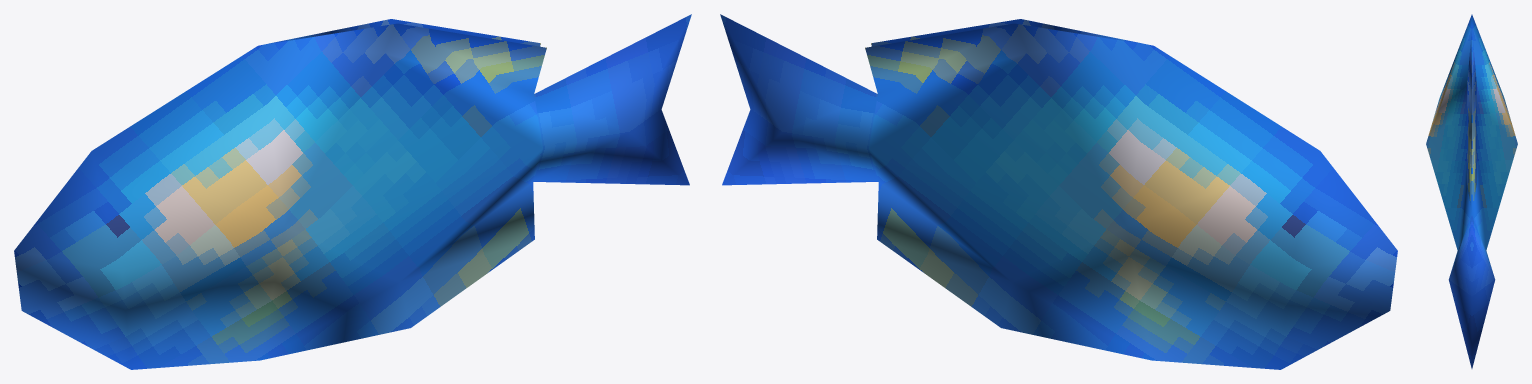
Rendered from fish2.fbx.
The picture shows the model from 3 angles, left to right: view 1: azimuth 30°, elevation 25°; view 2: azimuth 150°, elevation 25°; view 3: azimuth 270°, elevation 25°; orthographic projection. The views are drawn at different scales.
Visible parts, largest first — view 1: m0.001; view 2: m0.001; view 3: m0.001.
Part boxes in pixels (x1=…): m0.001: x1=14, y1=14, x2=691, y2=369; m0.001: x1=720, y1=14, x2=1397, y2=369; m0.001: x1=1426, y1=14, x2=1517, y2=368.
Bounding box in the file's own units: 126 × 56.29 × 19.67.
